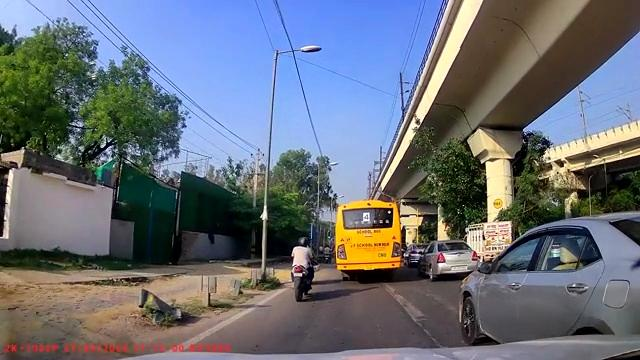motorcycle_with_helmet: (290, 236, 317, 302)
